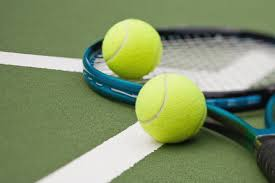tennis_ball: (135, 73, 206, 142), (102, 18, 162, 80)
